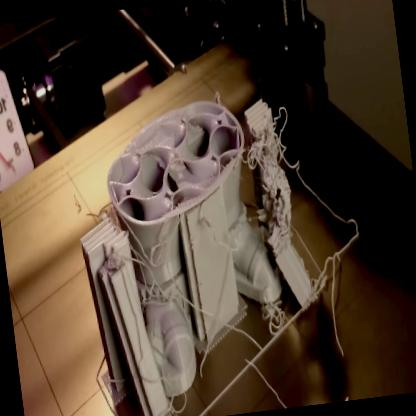fail: (304, 188, 379, 343), (240, 97, 301, 171), (131, 229, 175, 283), (256, 290, 291, 339)
